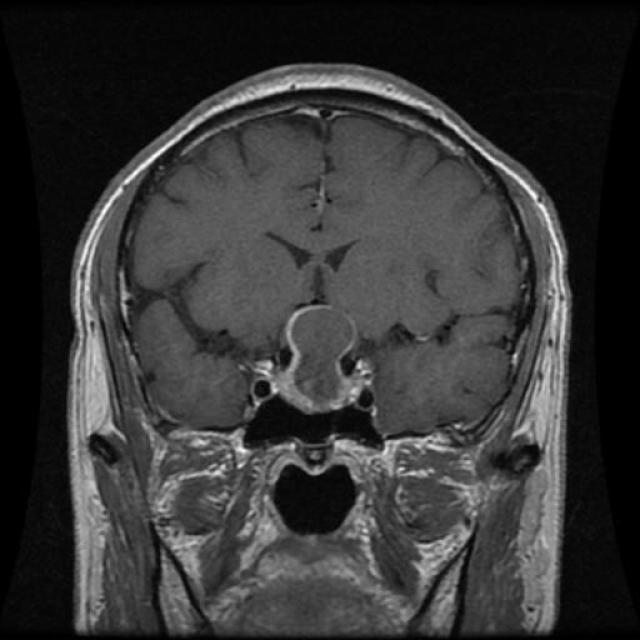pituitary: (243, 302, 385, 424)
